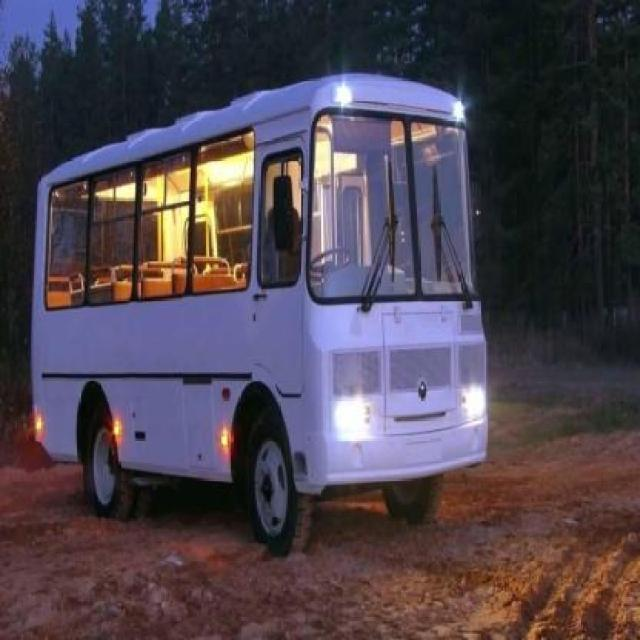bus: (32, 73, 489, 554)
